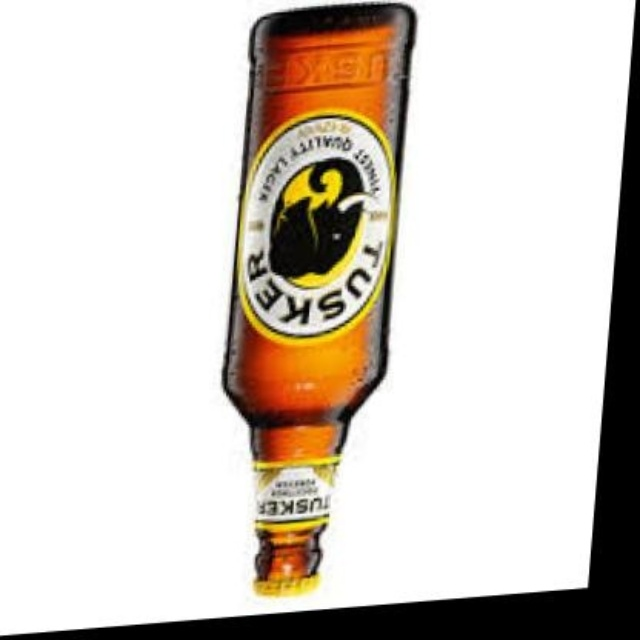trash: (223, 3, 414, 594)
